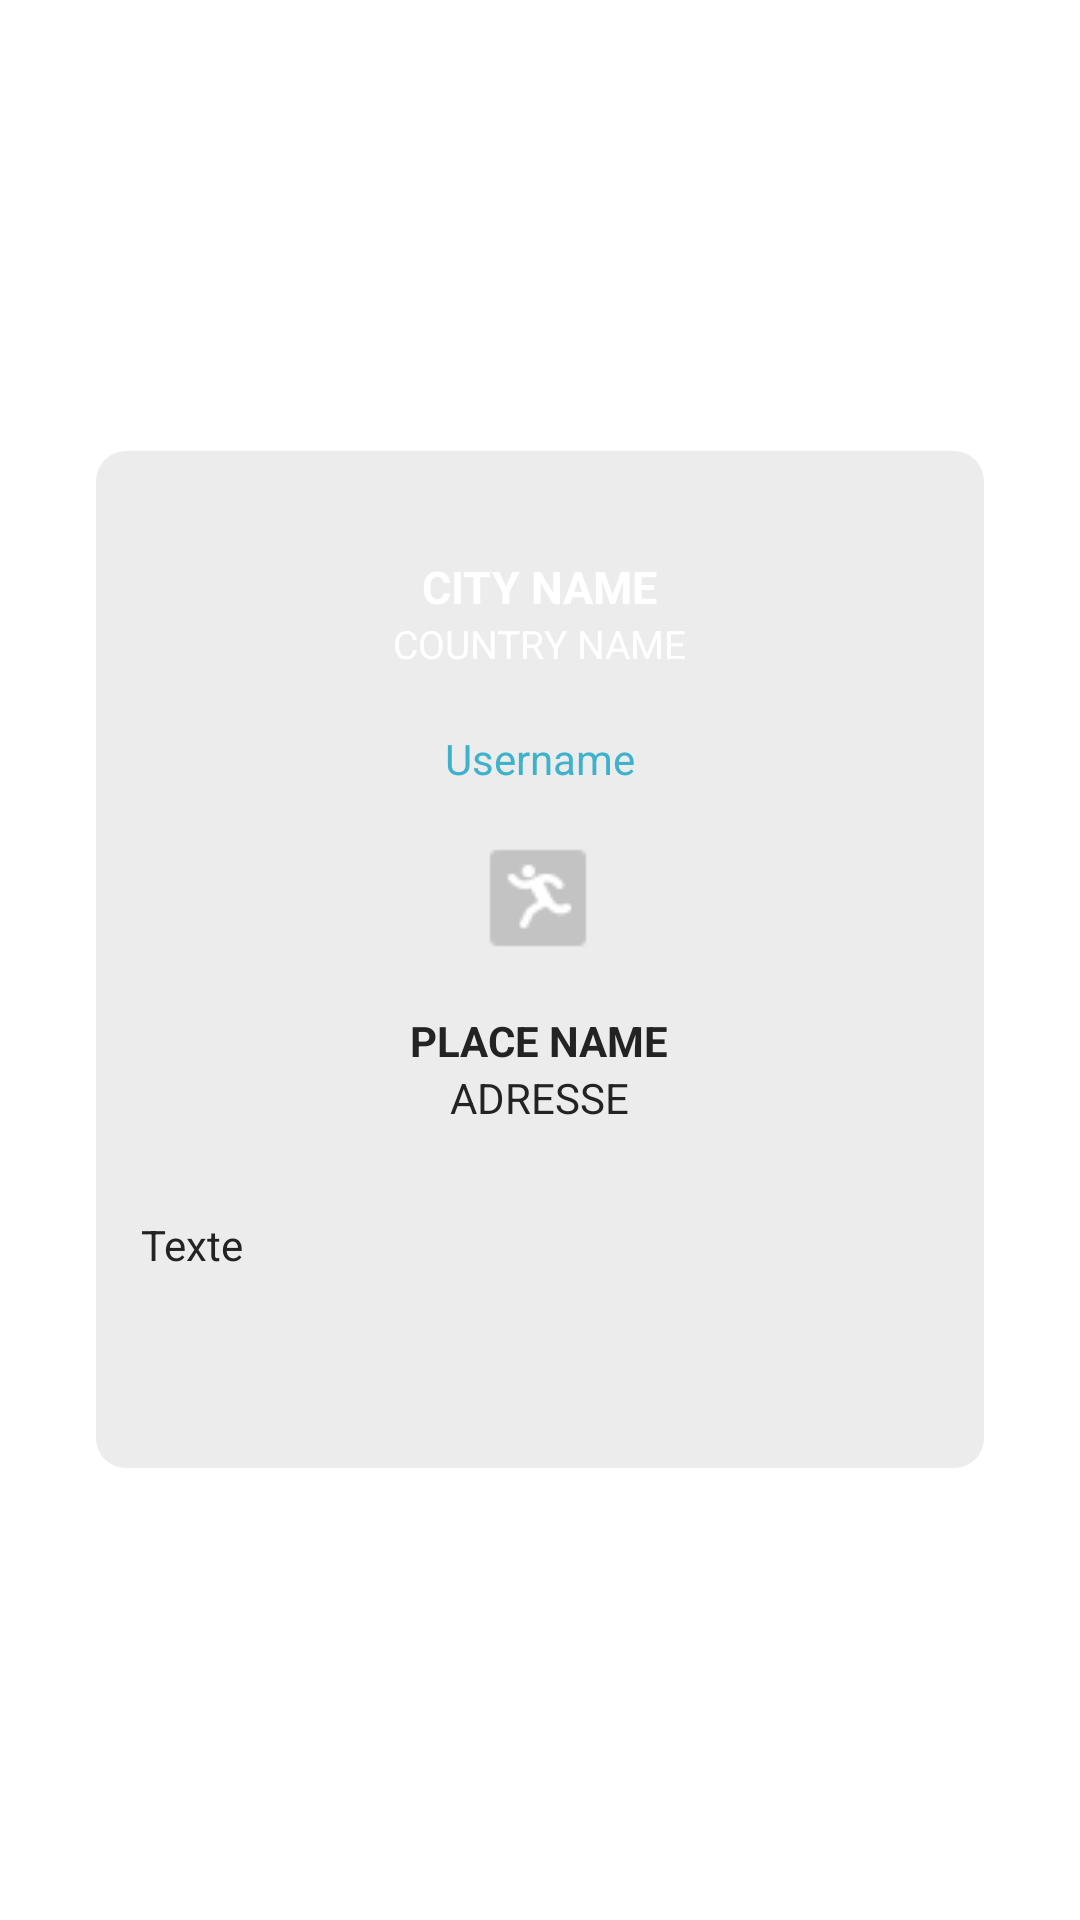

Icon bounding boxes for this 1080 × 1920 phone screenshot, format (x1, y1, x2, y2):
activities: (490, 850, 586, 946)
